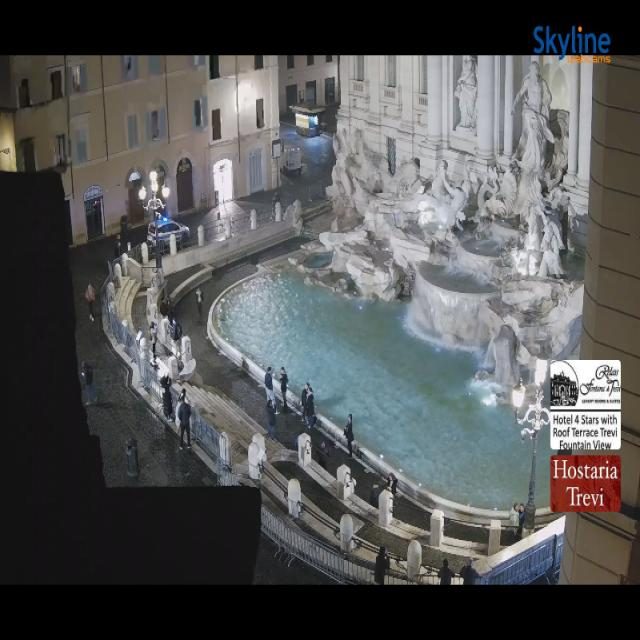person: (178, 390, 191, 449), (82, 362, 97, 404), (264, 366, 277, 414), (375, 546, 390, 584), (160, 375, 172, 418), (460, 558, 479, 584), (344, 413, 354, 458), (306, 386, 315, 430), (85, 283, 95, 321), (438, 559, 453, 584), (510, 503, 519, 539), (267, 399, 275, 439), (301, 383, 309, 422), (280, 368, 287, 412), (318, 442, 329, 469), (387, 473, 397, 497), (150, 322, 156, 361), (166, 296, 174, 324), (510, 503, 519, 527), (196, 288, 203, 318), (519, 504, 524, 537), (160, 299, 167, 316), (115, 235, 120, 258)
